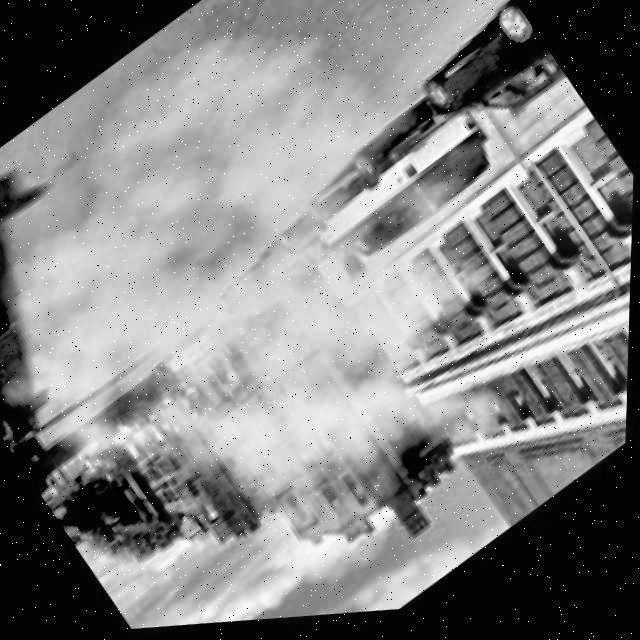Smoke: (0, 0, 632, 631)
